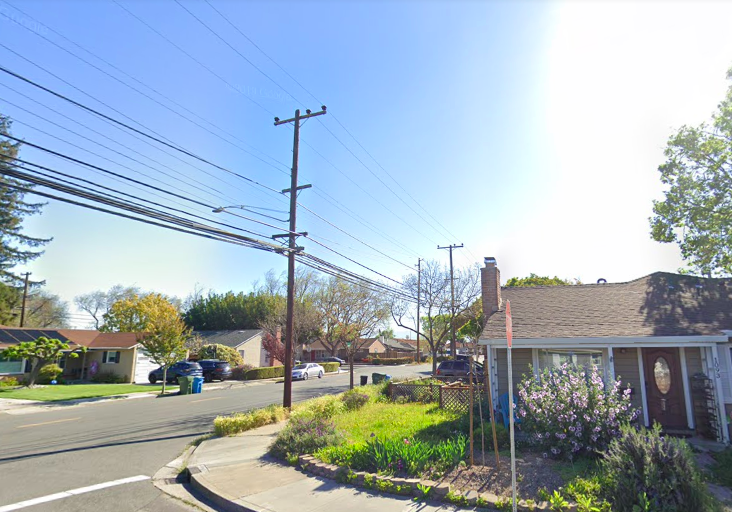utility_pole: (264, 97, 334, 256), (435, 234, 467, 269)
